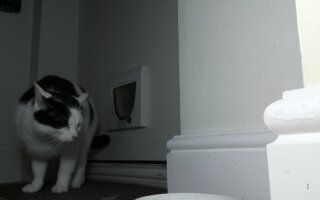bad: (10, 73, 110, 197)
